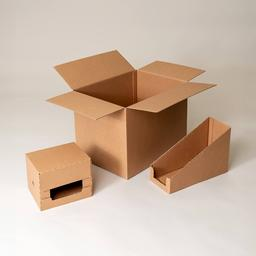cardboard: (38, 52, 199, 166), (135, 115, 232, 195), (20, 136, 99, 221)
